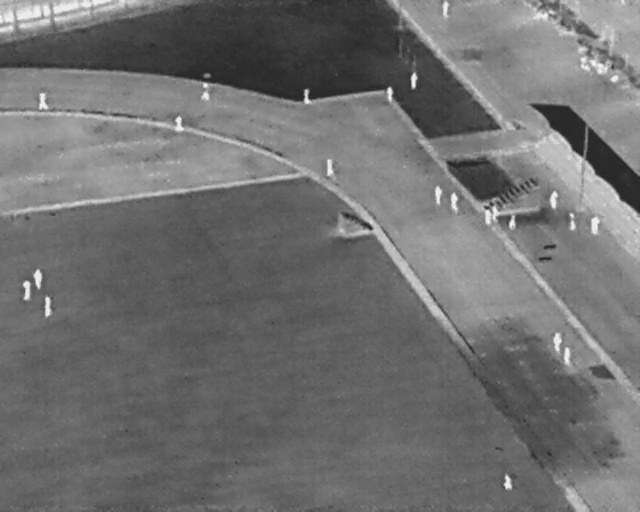DontCare: (576, 41, 626, 88)
Person: (37, 92, 50, 111), (567, 212, 579, 231), (33, 268, 43, 290), (22, 280, 32, 301), (450, 191, 460, 212), (44, 295, 53, 318), (591, 215, 601, 235), (549, 190, 559, 209), (201, 83, 211, 101), (553, 332, 562, 352), (434, 186, 443, 205), (410, 71, 419, 90), (175, 115, 185, 132), (503, 473, 513, 490), (441, 0, 451, 17), (326, 159, 335, 177), (303, 88, 312, 105), (564, 347, 572, 365), (508, 214, 517, 230), (492, 204, 500, 222), (386, 86, 394, 103), (485, 209, 492, 226)
